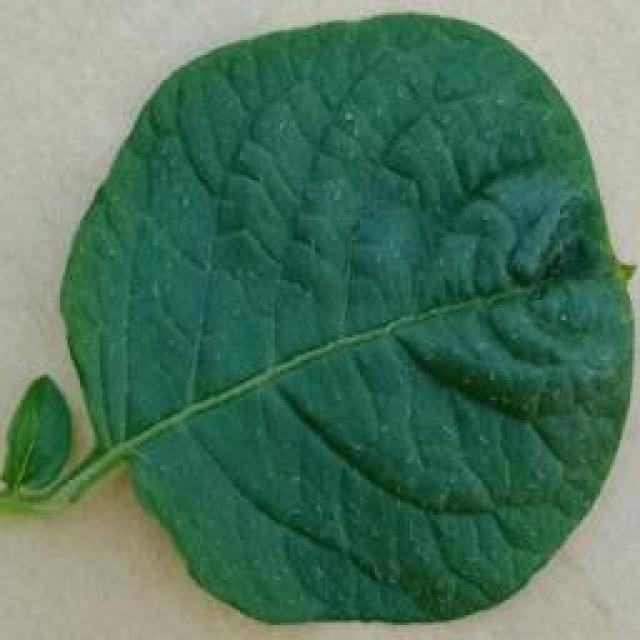Potato_Healthy: (30, 15, 631, 620)
